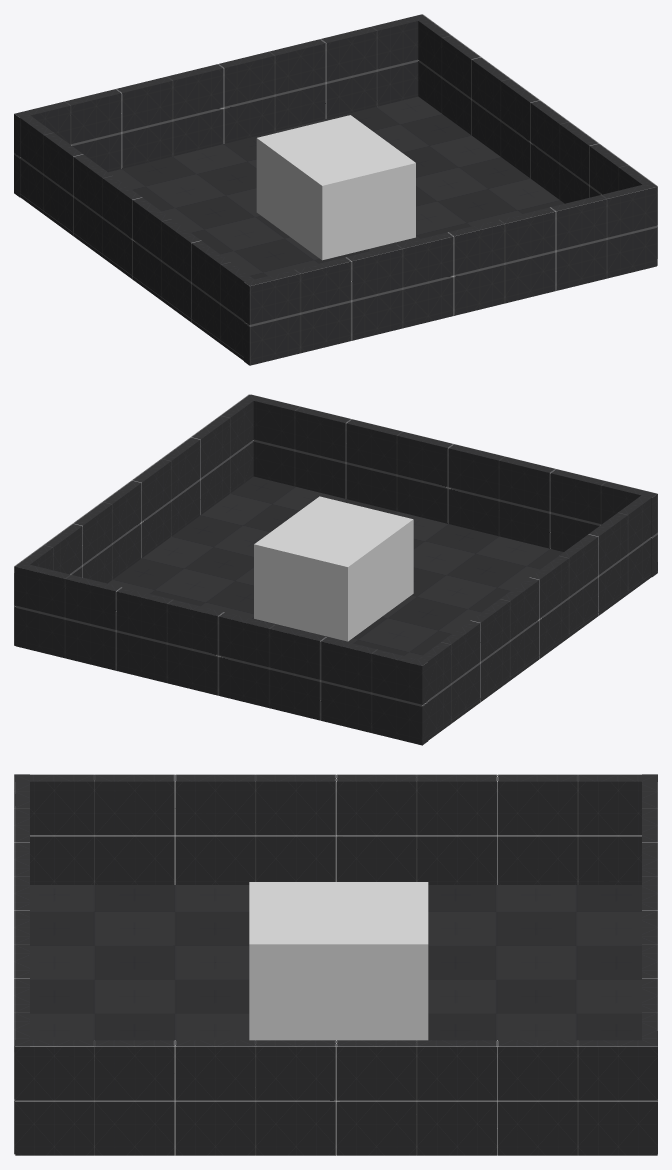
File: polyg.glb
The picture shows the model from 3 angles, top to bottom: view 1: azimuth 30°, elevation 25°; view 2: azimuth 150°, elevation 25°; view 3: azimuth 270°, elevation 25°; orthographic projection. The views are drawn at different scales.
Parts seen in each view (by area): view 1: Walls, Floor, Cube.001; view 2: Walls, Floor, Cube.001; view 3: Walls, Floor, Cube.001.
Boxes of the visible parts, box(x1,y1,x2,y2) form: Walls: box(14, 14, 657, 365); Floor: box(20, 96, 564, 357); Cube.001: box(256, 115, 415, 260); Walls: box(14, 394, 657, 745); Floor: box(108, 476, 651, 736); Cube.001: box(254, 496, 413, 641); Walls: box(14, 774, 657, 1155); Floor: box(30, 885, 641, 1040); Cube.001: box(249, 882, 428, 1040).
Size of the model in its own units: 40.16 by 7.46 by 40.11.
Materials: 2 (2 with a texture image).
